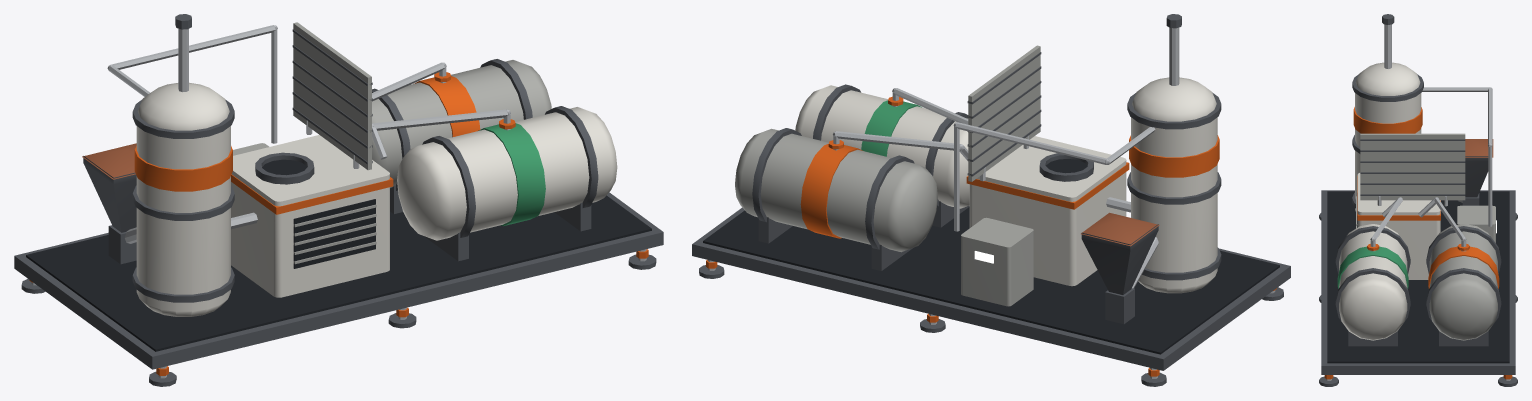
Rendered from isru_plant.glb.
3 views of the same model, side by side, from view 1: azimuth 30°, elevation 25°; view 2: azimuth 150°, elevation 25°; view 3: azimuth 270°, elevation 25° (orthographic). The views are drawn at different scales.
Visible parts, largest first — view 1: body; view 2: body; view 3: body.
Boxes of the visible parts, x1=… form: body: x1=14, y1=14, x2=663, y2=386; body: x1=692, y1=14, x2=1290, y2=386; body: x1=1319, y1=14, x2=1517, y2=386.
Size of the model in its own units: 7.52 by 4.46 by 3.6.
